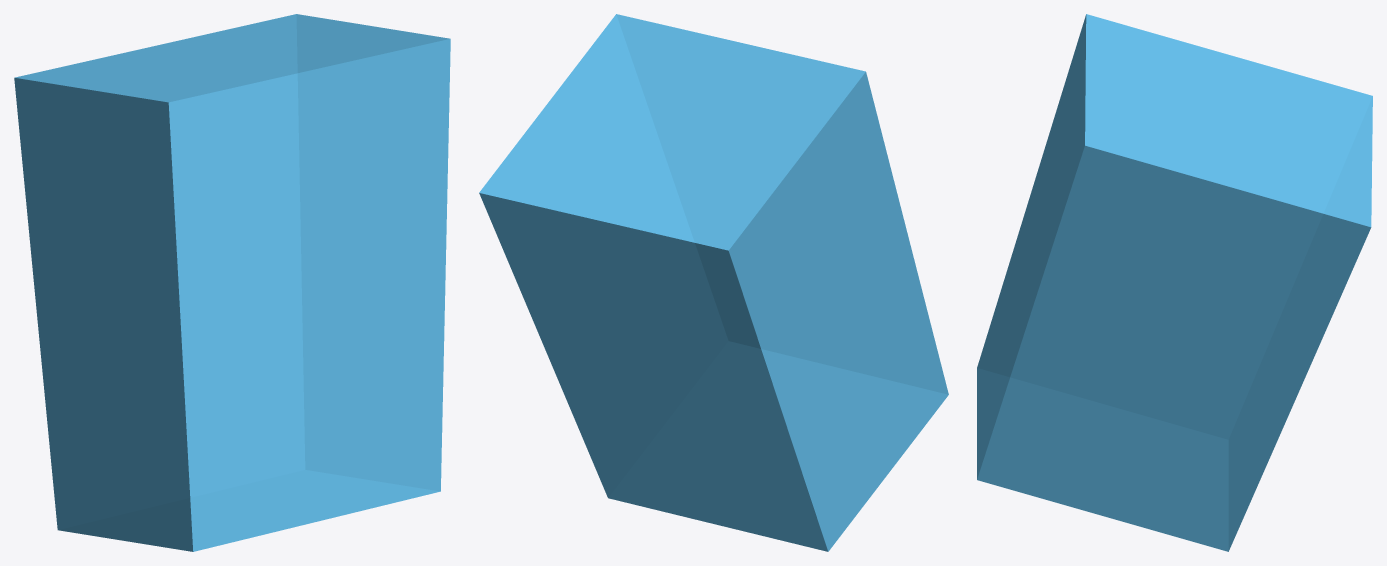
Rendered from Event_421278790_HBrechit_18.fbx.
3 renders of one model, left to right at view 1: azimuth 30°, elevation 25°; view 2: azimuth 150°, elevation 25°; view 3: azimuth 270°, elevation 25°, orthographic. The views are drawn at different scales.
Parts seen in each view (by area): view 1: Model; view 2: Model; view 3: Model.
Boxes of the visible parts, box(x1,y1,x2,y2) form: Model: box(14, 14, 450, 551); Model: box(479, 14, 948, 551); Model: box(977, 14, 1372, 551).
Size of the model in its own units: 0.5152 by 0.7415 by 0.6029.
